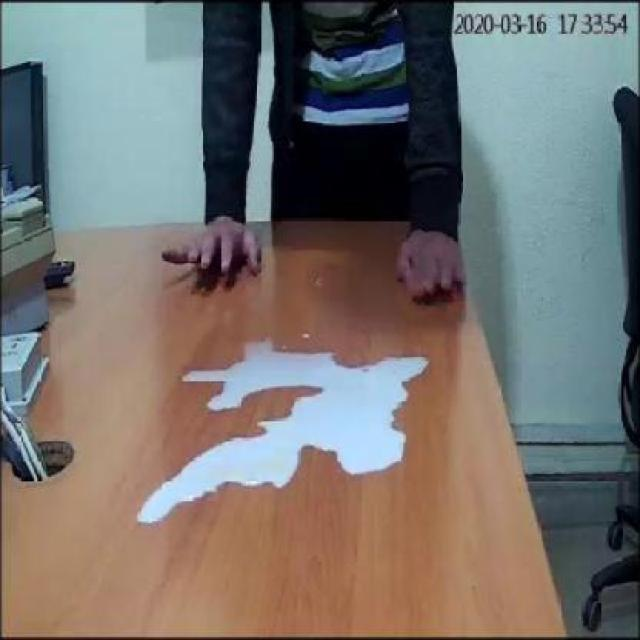spillage: (136, 341, 430, 524)
